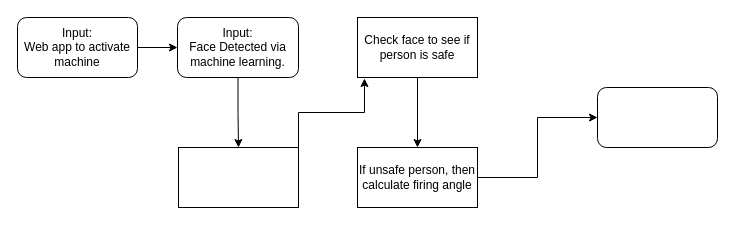
Image size: 735x225. Some labels were removed from this diagram. Each missing label, with the box of its shape:
Location of face in comparison to camera calculated.: (178, 146, 298, 208)
Output: Whether the machine fires and what angle: (596, 86, 718, 148)
